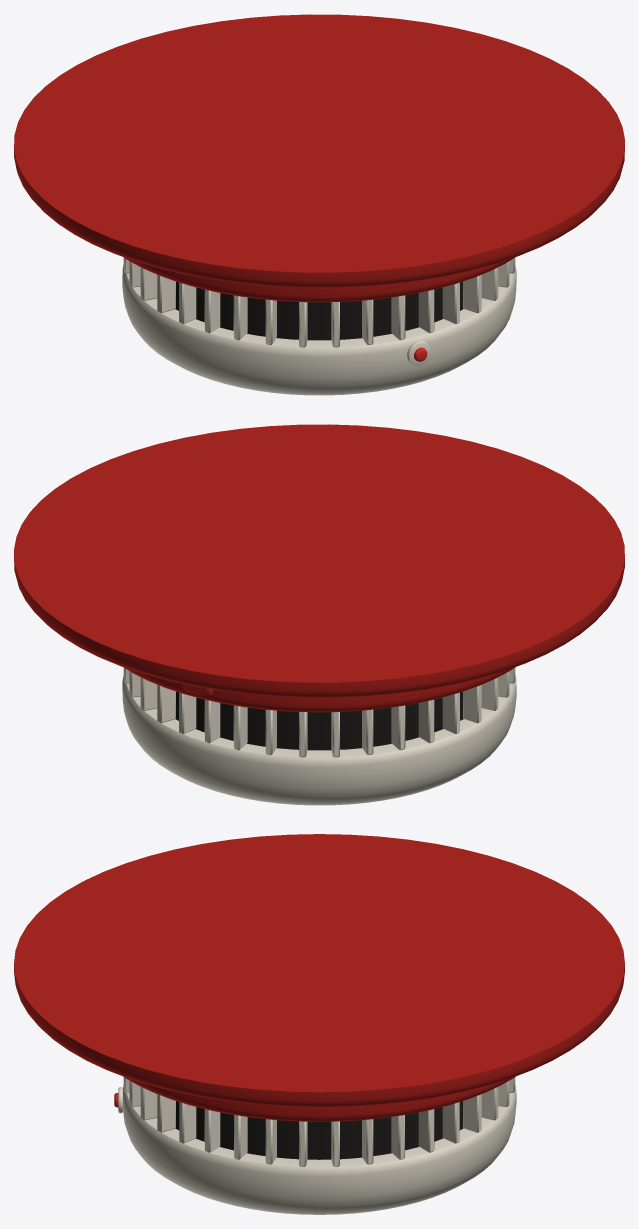
Rendered from Kit_AlarmDetector.fbx.
3 views of the same model, one above another, from view 1: azimuth 30°, elevation 25°; view 2: azimuth 150°, elevation 25°; view 3: azimuth 270°, elevation 25° (orthographic).
Visible parts, largest first — view 1: Kit_AlarmDetector_LOD0; view 2: Kit_AlarmDetector_LOD0; view 3: Kit_AlarmDetector_LOD0.
Part boxes in pixels (x1=…): Kit_AlarmDetector_LOD0: x1=14, y1=14, x2=624, y2=395; Kit_AlarmDetector_LOD0: x1=14, y1=424, x2=624, y2=805; Kit_AlarmDetector_LOD0: x1=14, y1=834, x2=624, y2=1214.
Size of what is drawn, in the model's own units: 0.2 by 0.0715 by 0.2.
